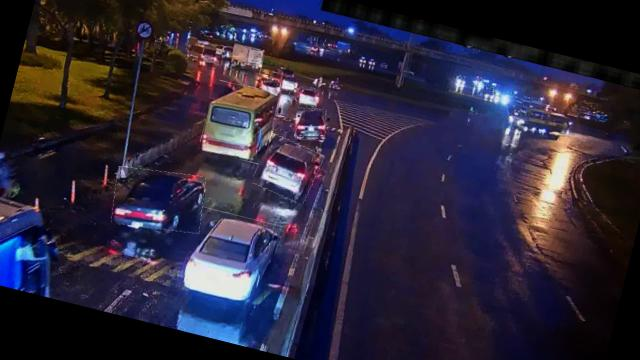Bus: (198, 80, 281, 166)
Car: (177, 206, 282, 311), (107, 159, 210, 241), (252, 134, 324, 204), (292, 104, 330, 144)
Truck: (223, 42, 266, 74)
